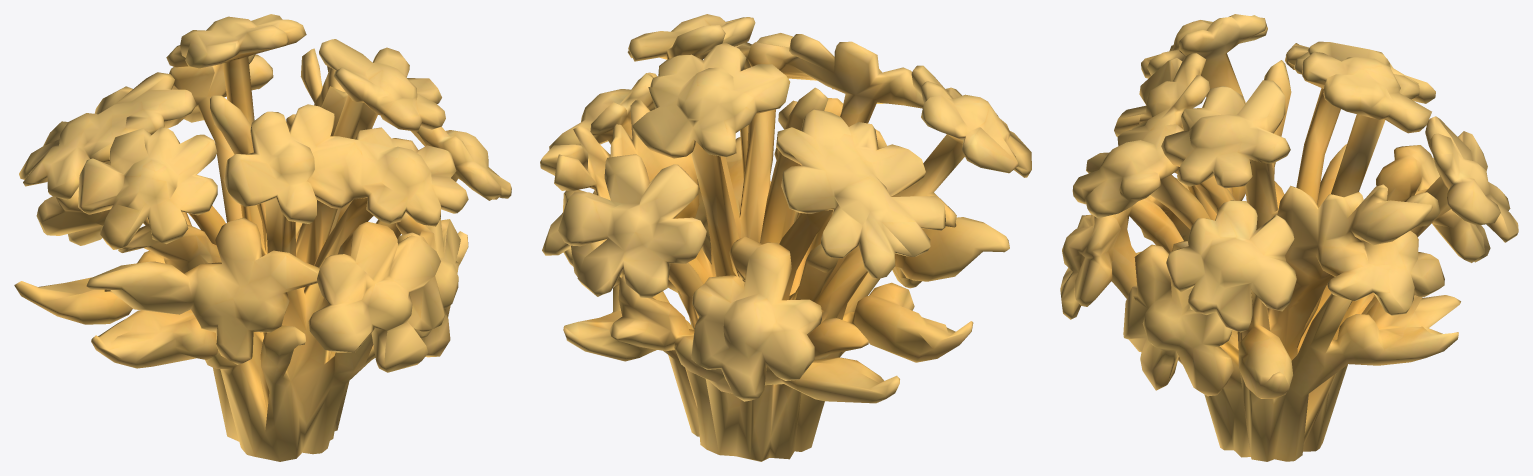
Rendered from clay-flower-cluster.glb.
3 views of the same model, side by side, from view 1: azimuth 30°, elevation 25°; view 2: azimuth 150°, elevation 25°; view 3: azimuth 270°, elevation 25° (orthographic). The views are drawn at different scales.
Size of the model in its own units: 1.91 by 1.68 by 1.79.
1 material, 1 textured.
